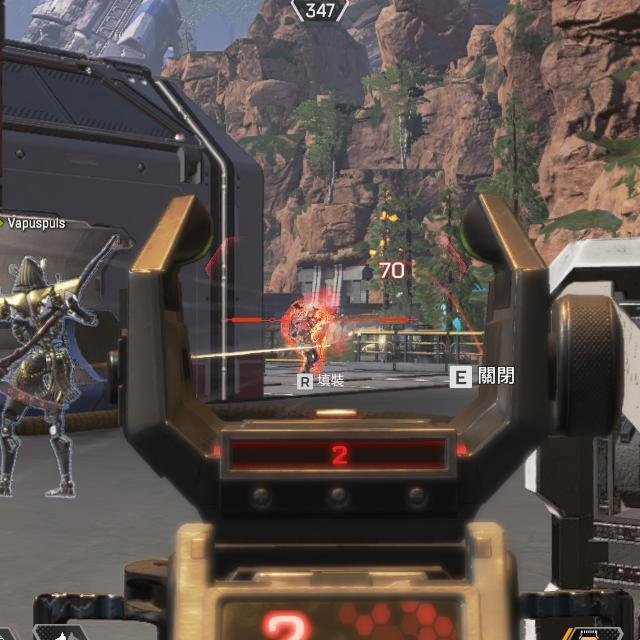avatar: (0, 253, 81, 503), (289, 303, 324, 373)
